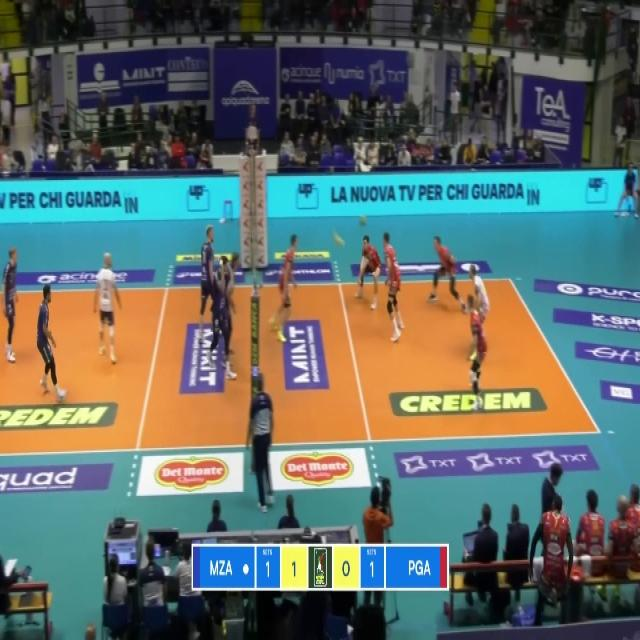volleyball court: (0, 276, 601, 451)
